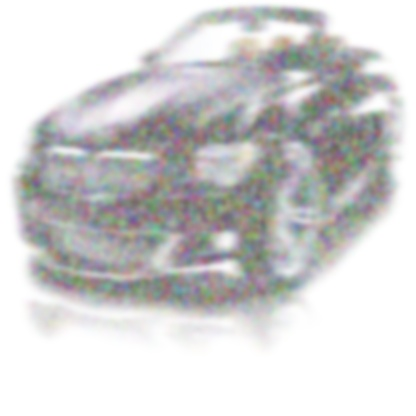Vehicle: (17, 7, 402, 299)
